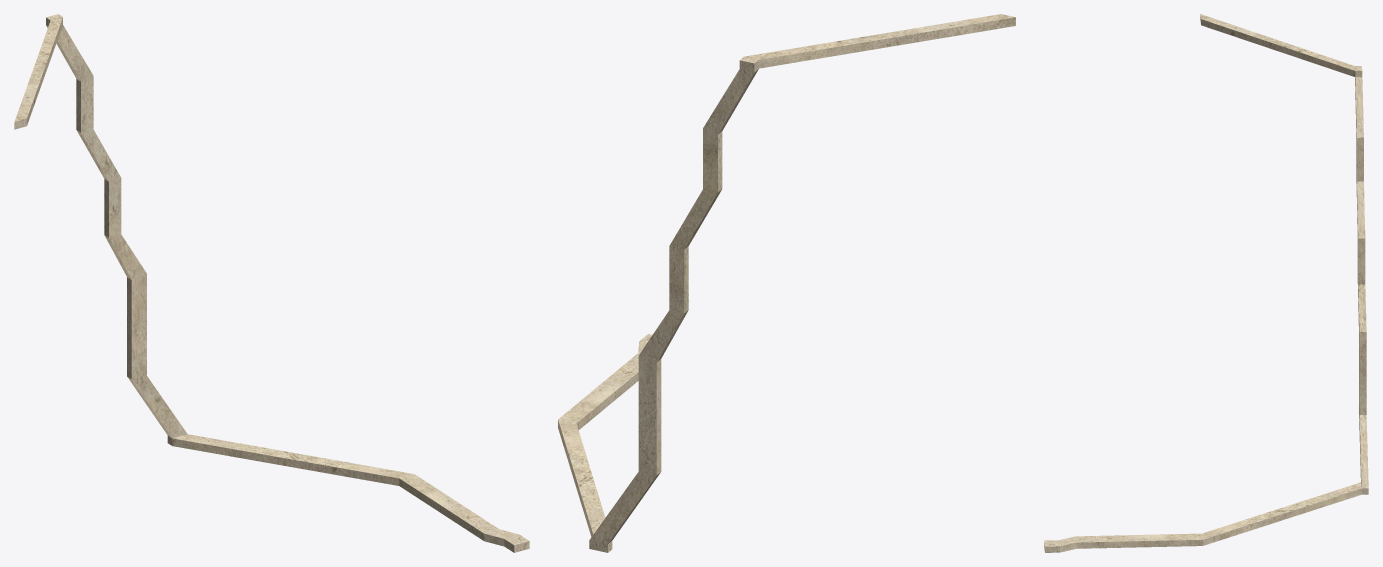
The model's file is concrete_41.fbx.
3 views of the same model, side by side, from view 1: azimuth 30°, elevation 25°; view 2: azimuth 150°, elevation 25°; view 3: azimuth 270°, elevation 25° (orthographic). The views are drawn at different scales.
Parts seen in each view (by area): view 1: concrete_41; view 2: concrete_41; view 3: concrete_41.
Boxes of the visible parts, x1,y1,x2,y2 form: concrete_41: (14, 14, 529, 552); concrete_41: (558, 14, 1015, 552); concrete_41: (1044, 14, 1368, 552).
Bounding box in the file's own units: 560 × 586 × 462.
